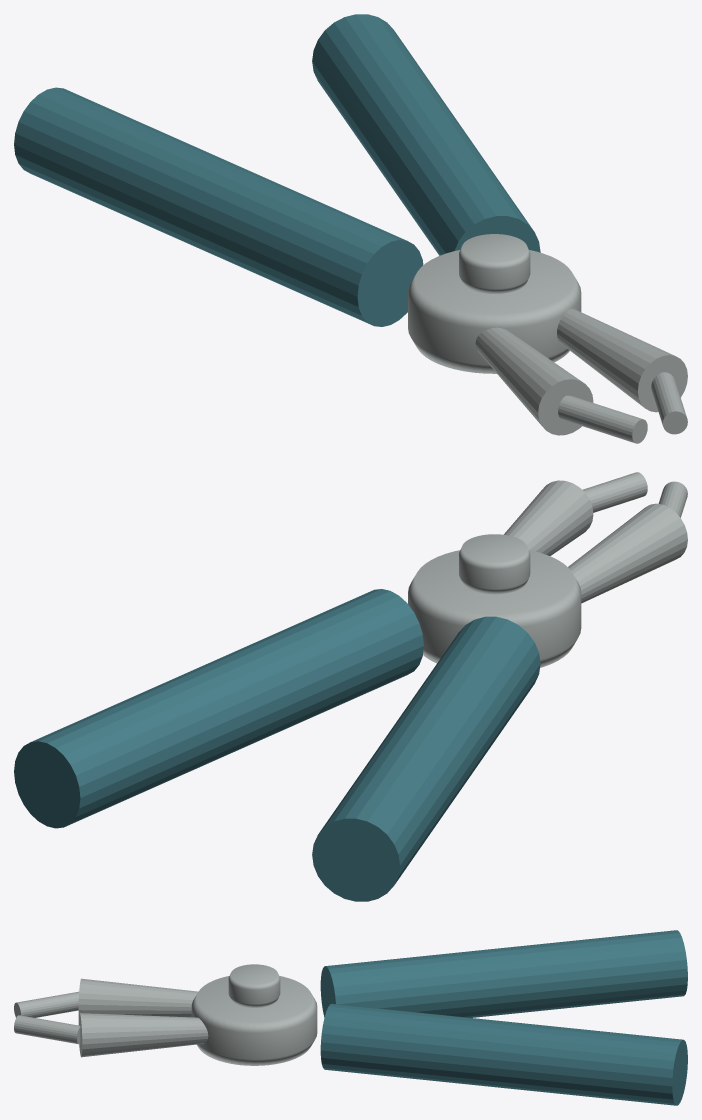
File: optician-and-optical-lens-workshop-optician-and-optica-1a9eabeb__31704.glb
The picture shows the model from 3 angles, top to bottom: view 1: azimuth 30°, elevation 25°; view 2: azimuth 150°, elevation 25°; view 3: azimuth 270°, elevation 25°; orthographic projection. The views are drawn at different scales.
Parts seen in each view (by area): view 1: optician-and-optical-lens-workshop-nose-pad-adjusting-pliers (×2); view 2: optician-and-optical-lens-workshop-nose-pad-adjusting-pliers (×2); view 3: optician-and-optical-lens-workshop-nose-pad-adjusting-pliers (×2).
Boxes of the visible parts, <box> form: optician-and-optical-lens-workshop-nose-pad-adjusting-pliers (×2): <box>14,14,687,443</box>; optician-and-optical-lens-workshop-nose-pad-adjusting-pliers (×2): <box>14,472,687,901</box>; optician-and-optical-lens-workshop-nose-pad-adjusting-pliers (×2): <box>14,930,687,1105</box>.
Bounding box in the file's own units: 0.0875 × 0.022 × 0.1821.
